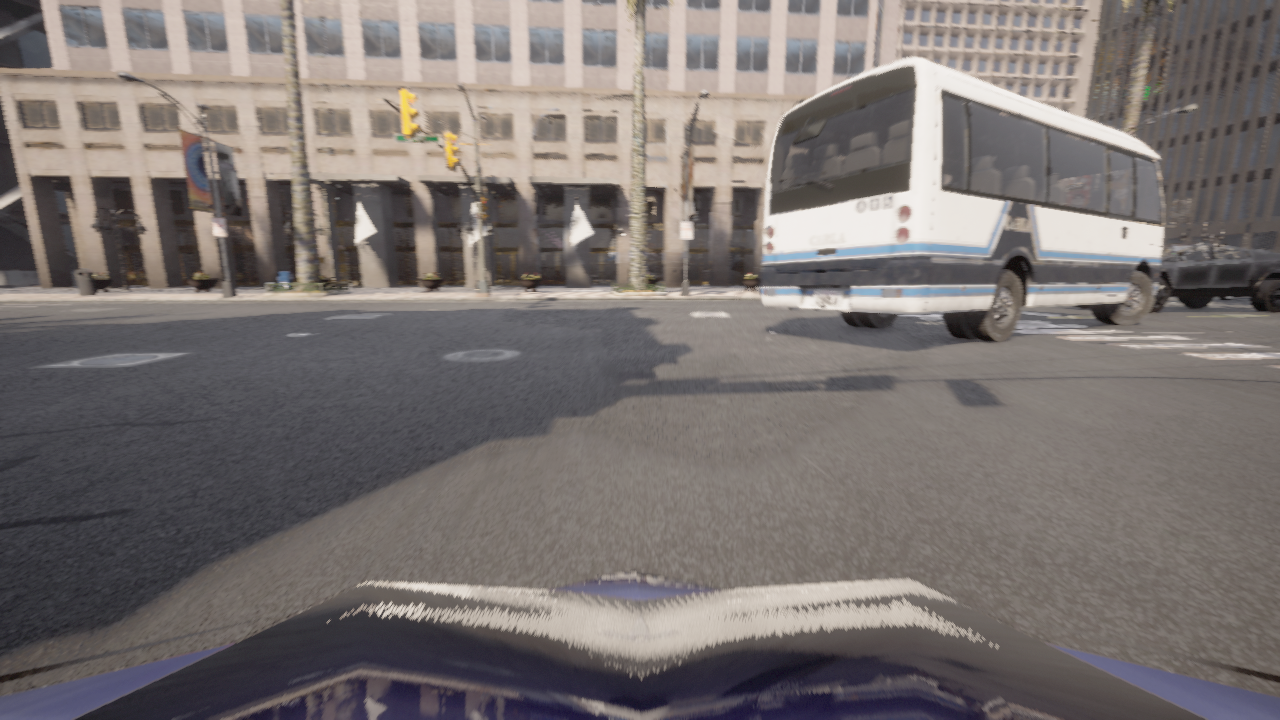cyclist: (0, 569, 1279, 719), (760, 58, 1191, 342), (1070, 243, 1279, 314), (1218, 297, 1242, 300)
